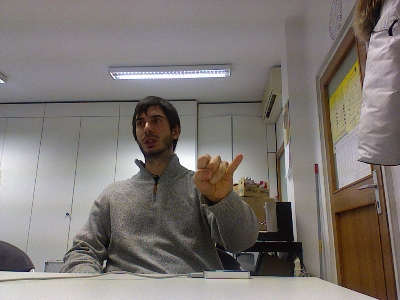小指: (191, 150, 244, 200)
